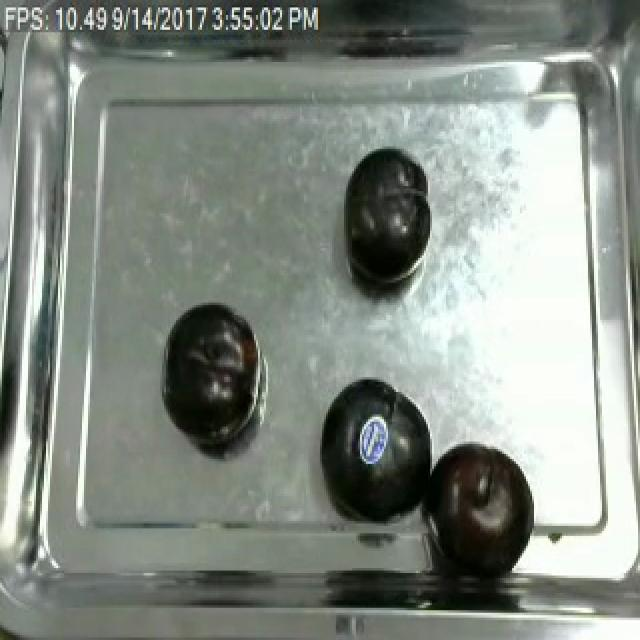Fruit: (312, 368, 440, 528), (424, 436, 540, 580), (156, 295, 262, 444), (336, 141, 434, 293)
